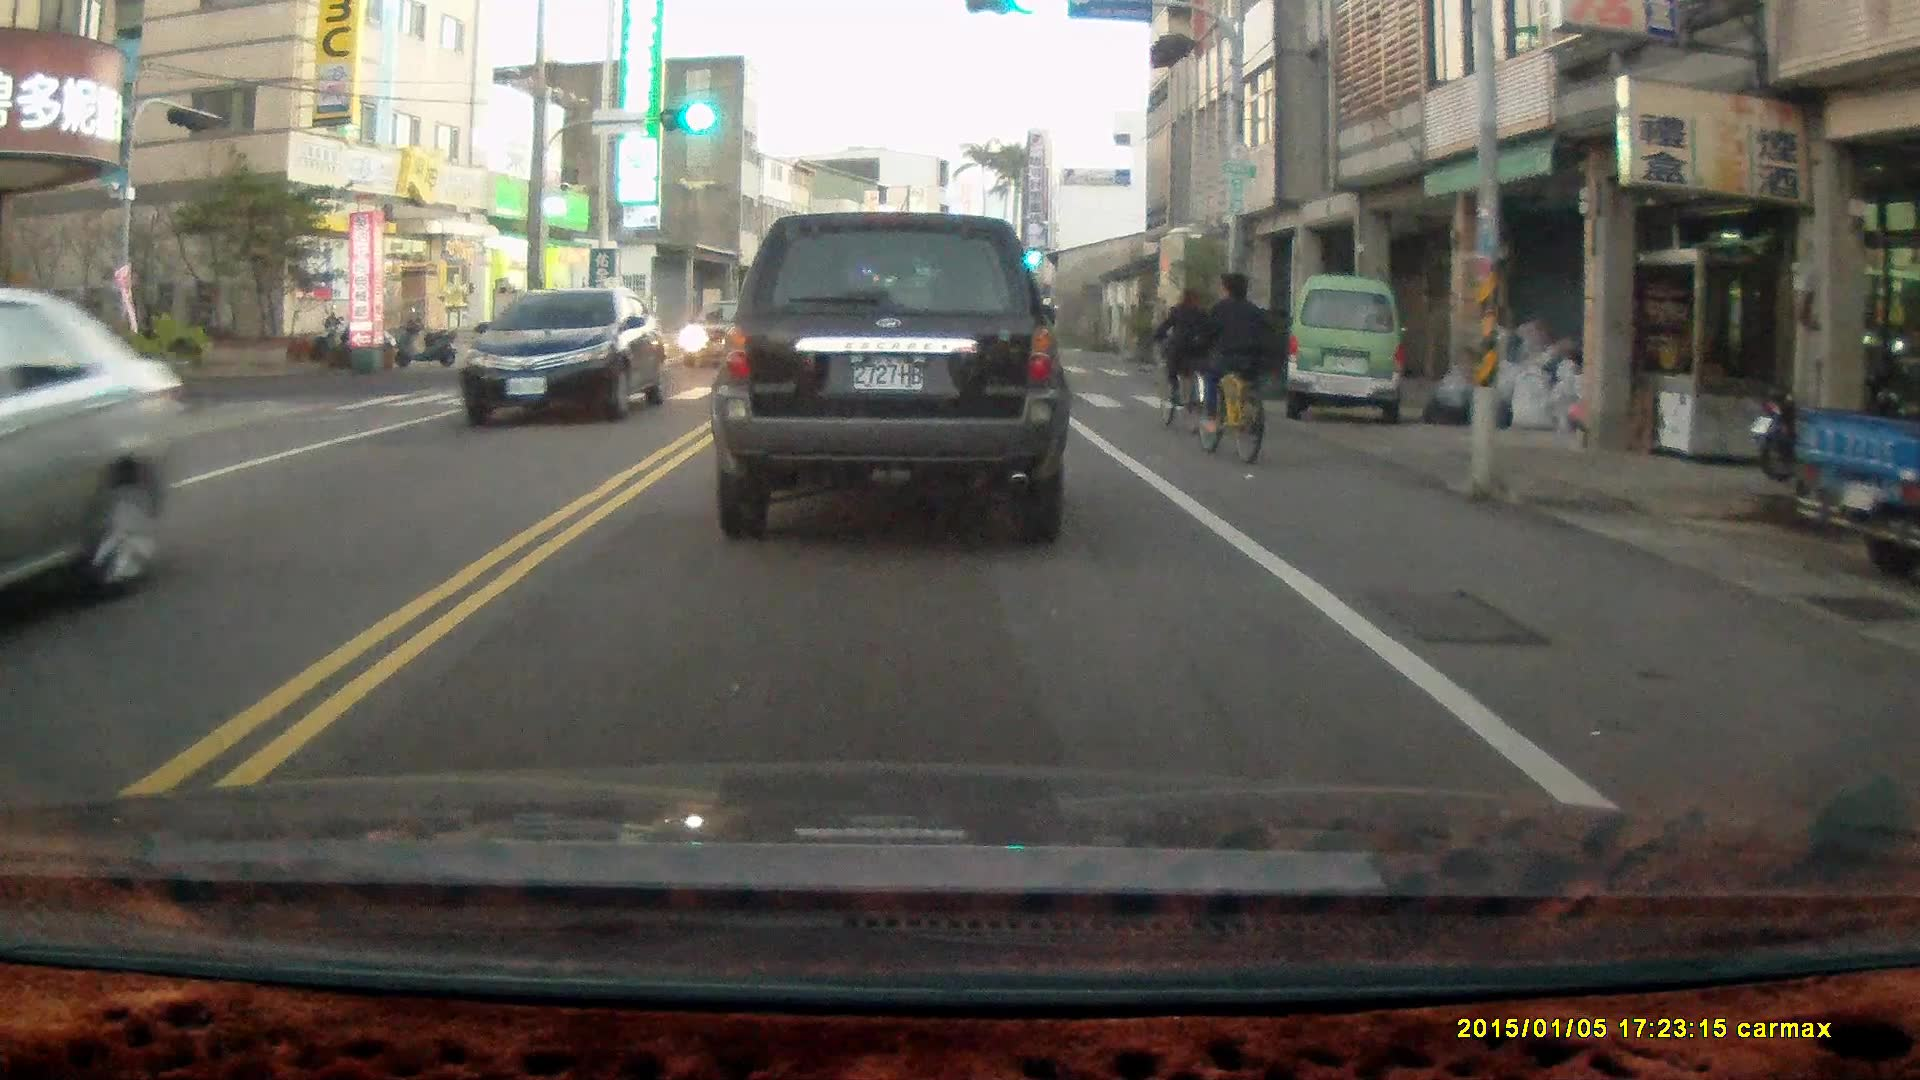rider: (1194, 268, 1269, 463), (1150, 278, 1217, 437)
vehicle: (715, 211, 1073, 541), (1, 283, 186, 645), (462, 282, 671, 429), (1285, 274, 1407, 428), (681, 299, 777, 372)
